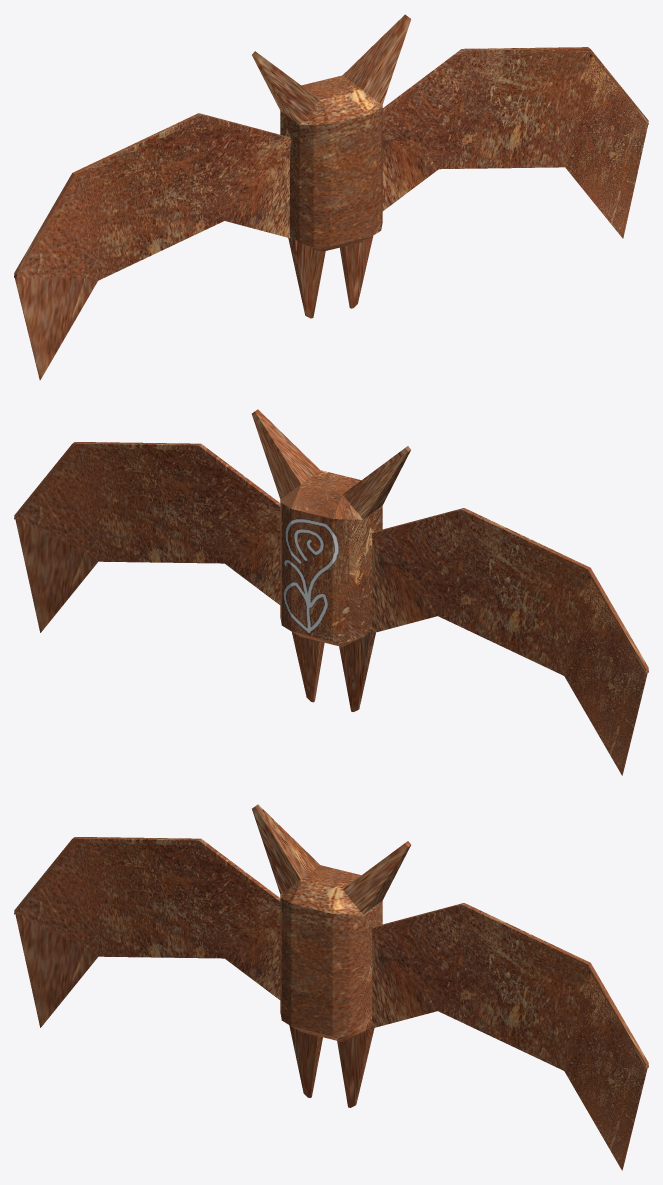
File: MetalBat.gltf
3 views of the same model, one above another, from view 1: azimuth 30°, elevation 25°; view 2: azimuth 150°, elevation 25°; view 3: azimuth 330°, elevation 25° (orthographic).
Visible parts, largest first — view 1: WingL, WingR, Body; view 2: WingL, WingR, Body; view 3: WingR, WingL, Body.
Boxes of the visible parts, <box> form: WingL: <box>14,113,291,380</box>; WingR: <box>382,47,648,238</box>; Body: <box>252,14,411,318</box>; WingL: <box>371,508,648,775</box>; WingR: <box>14,442,280,632</box>; Body: <box>252,409,410,711</box>; WingR: <box>371,903,648,1170</box>; WingL: <box>14,837,280,1027</box>; Body: <box>252,804,410,1107</box>.
Size of the model in its own units: 2.82 by 1.19 by 0.3002.
3 materials, 3 textured.
